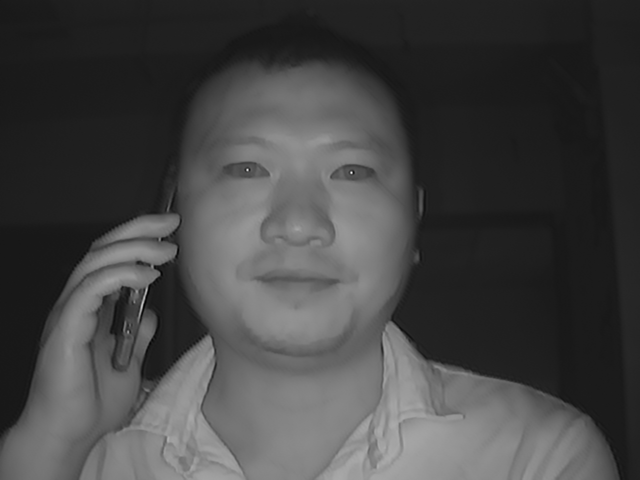hand: (23, 211, 183, 445)
